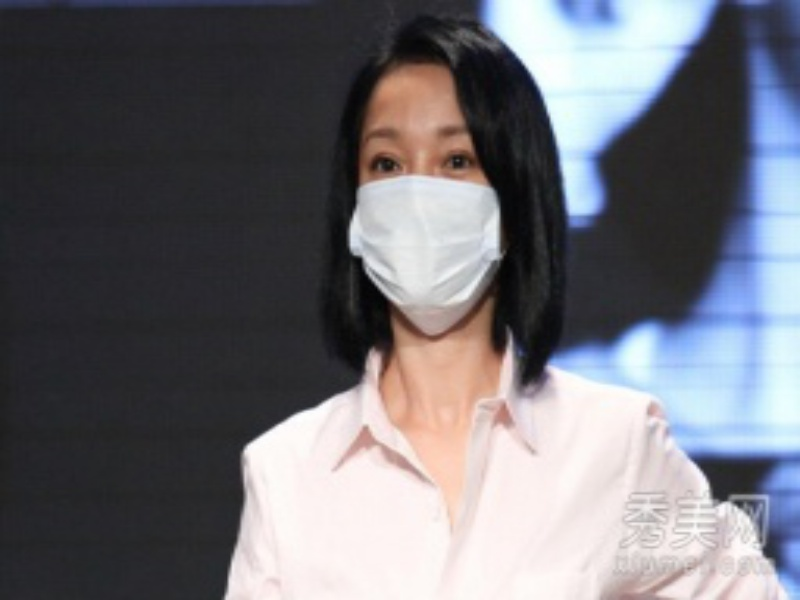ManaoArotava: (326, 27, 534, 369)
